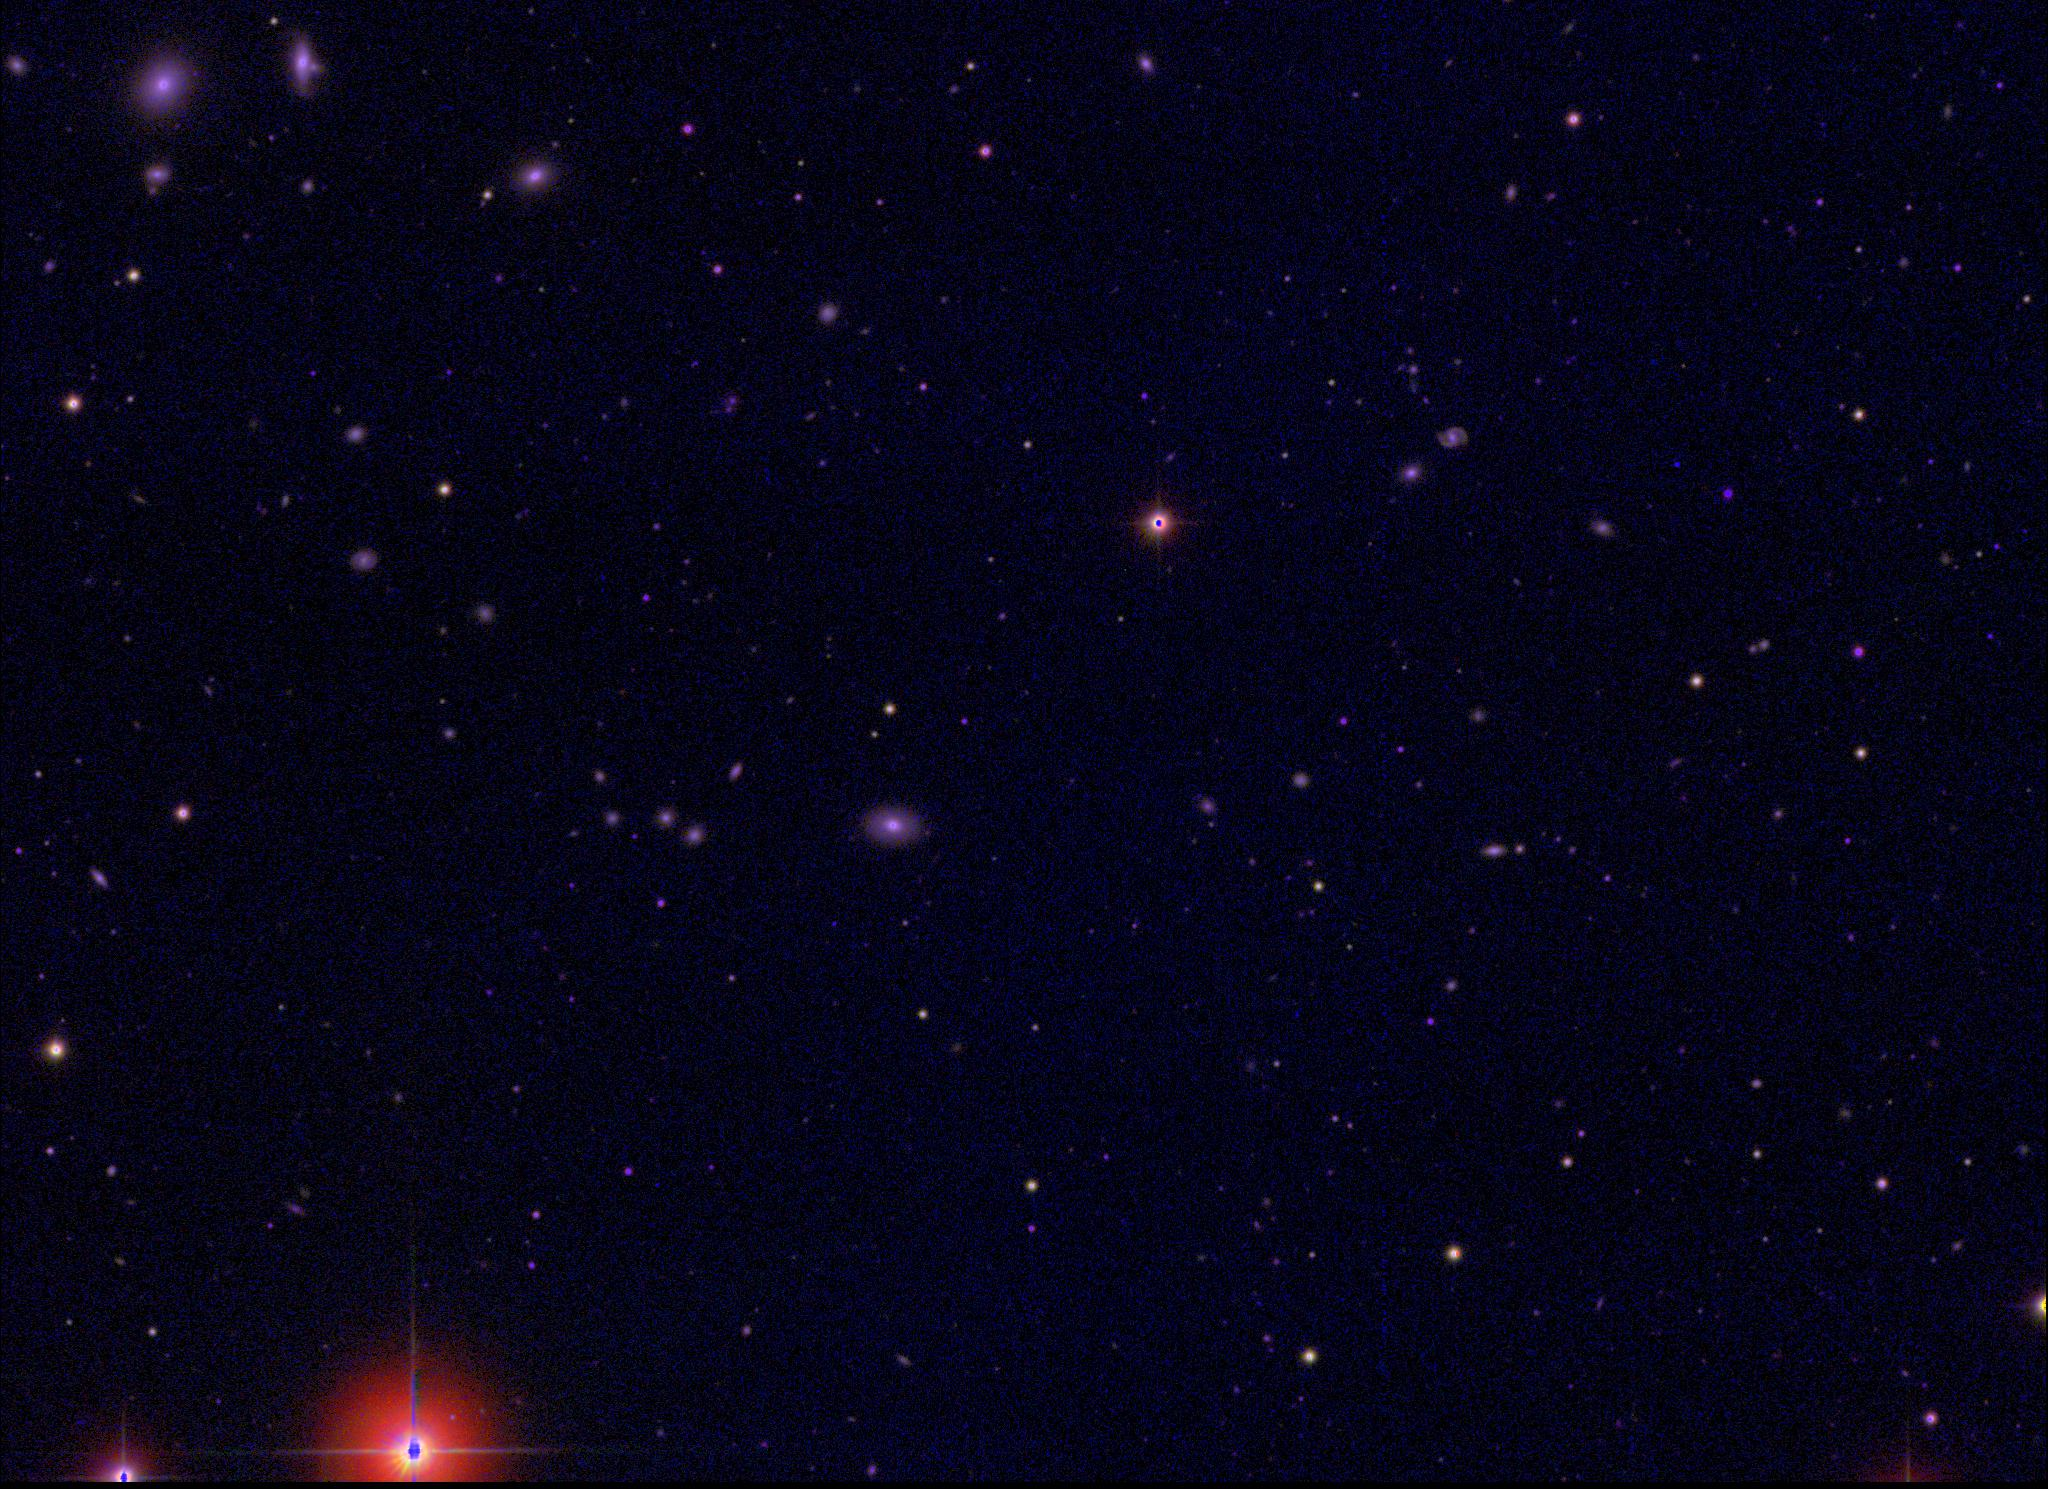L: (1670, 457, 1682, 471)
